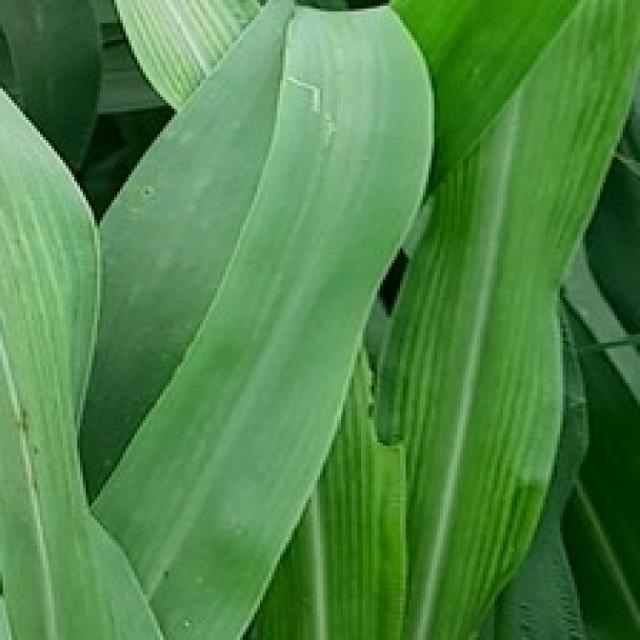Corn: (0, 0, 637, 637), (363, 0, 637, 637), (0, 0, 103, 174)
